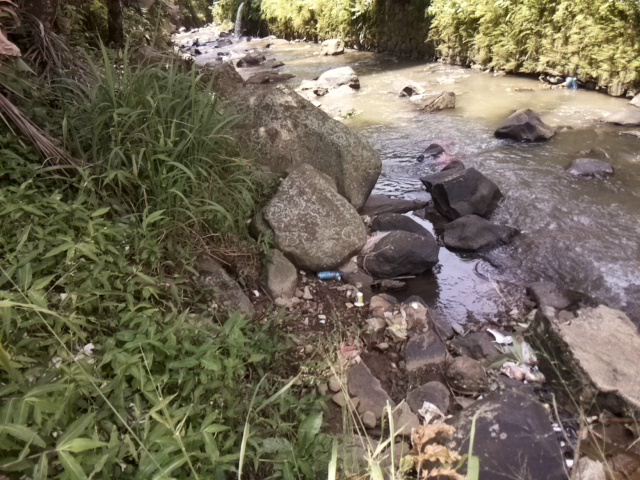Sampah_Botol_Plastik: (318, 270, 347, 282)
Sampah_Plastik: (501, 334, 543, 382), (361, 228, 394, 256)
Sampah_Styrofoam: (352, 291, 366, 308)
